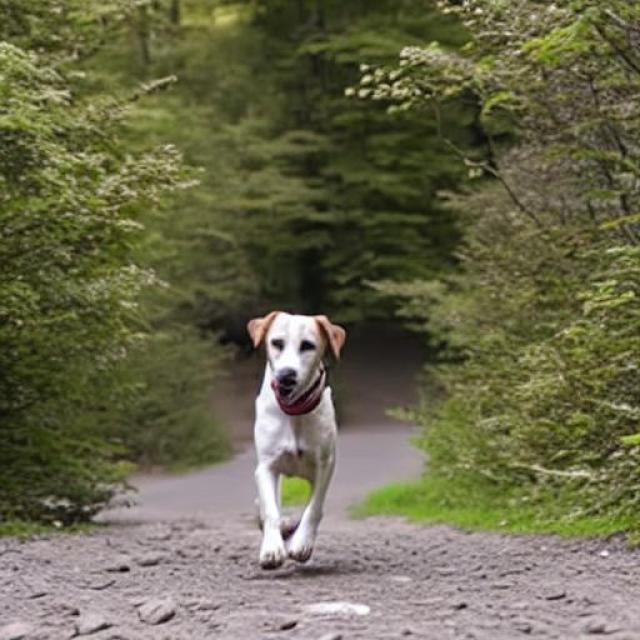Dog: (247, 310, 346, 568)
